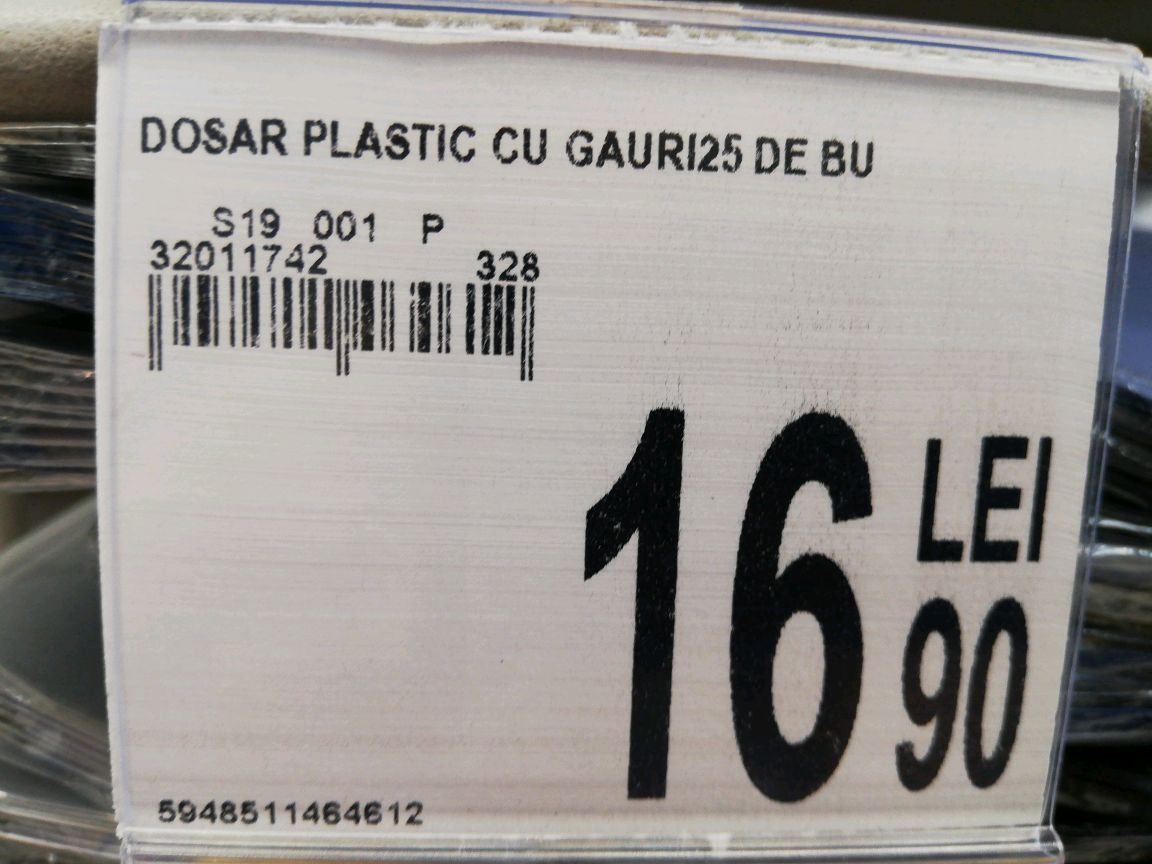price_bani: (889, 583, 1041, 807)
price_lei: (569, 395, 884, 823)
price_tag: (84, 14, 1088, 858)
product_id: (144, 790, 443, 838)
product_name: (131, 102, 897, 183)
